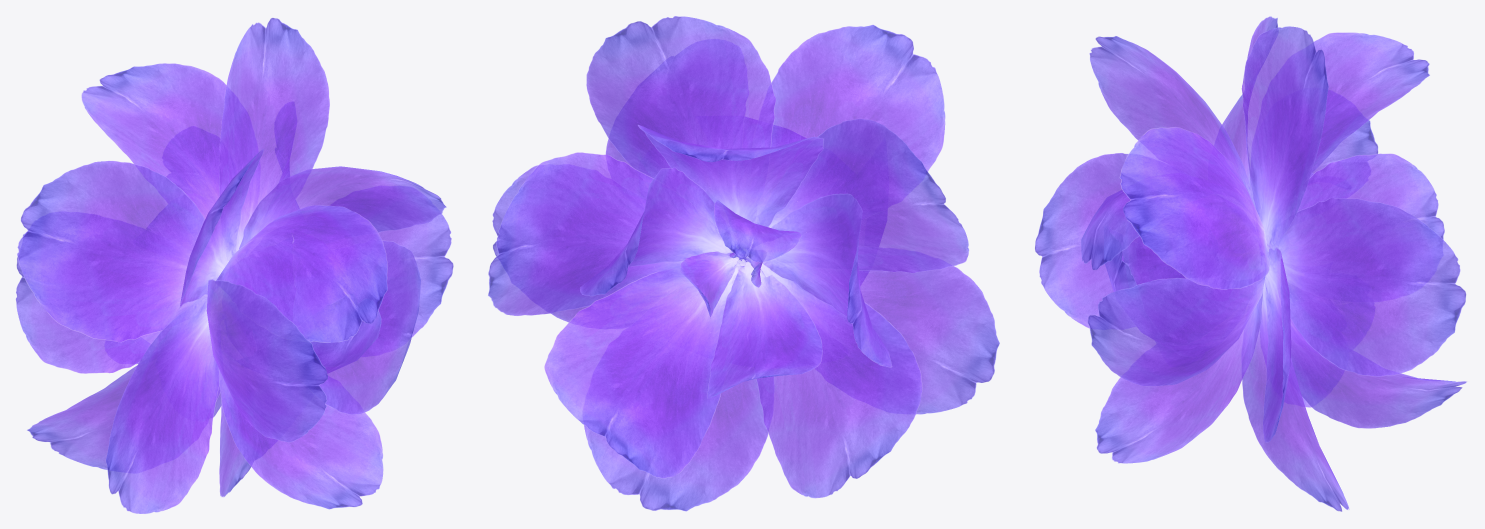
File: flower.glb
3 renders of one model, left to right at view 1: azimuth 30°, elevation 25°; view 2: azimuth 150°, elevation 25°; view 3: azimuth 270°, elevation 25°, orthographic. The views are drawn at different scales.
Visible parts, largest first — view 1: timeshift4; view 2: timeshift4; view 3: timeshift4.
Part boxes in pixels (bbox=[...]): timeshift4: bbox=[15, 18, 453, 513]; timeshift4: bbox=[488, 16, 999, 511]; timeshift4: bbox=[1035, 16, 1466, 511].
Bounding box in the file's own units: 6.04 × 6.09 × 4.99.
Materials: 1 (1 with a texture image).
